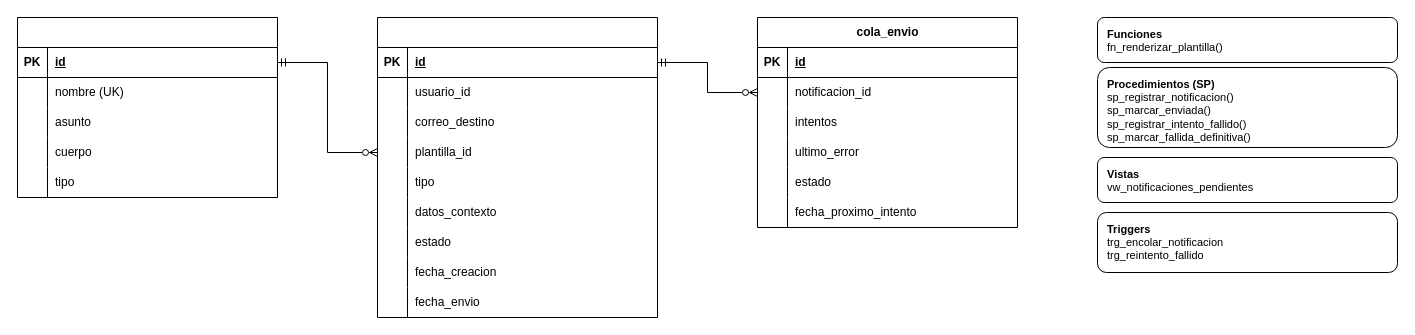
Image size: 1415x335. Some labels were removed from this diagram. Here are the shapes that lost their labels. From the top down, the box of each, then its label:
(16, 16, 278, 198): plantilla_correo
(376, 16, 658, 318): notificacion
